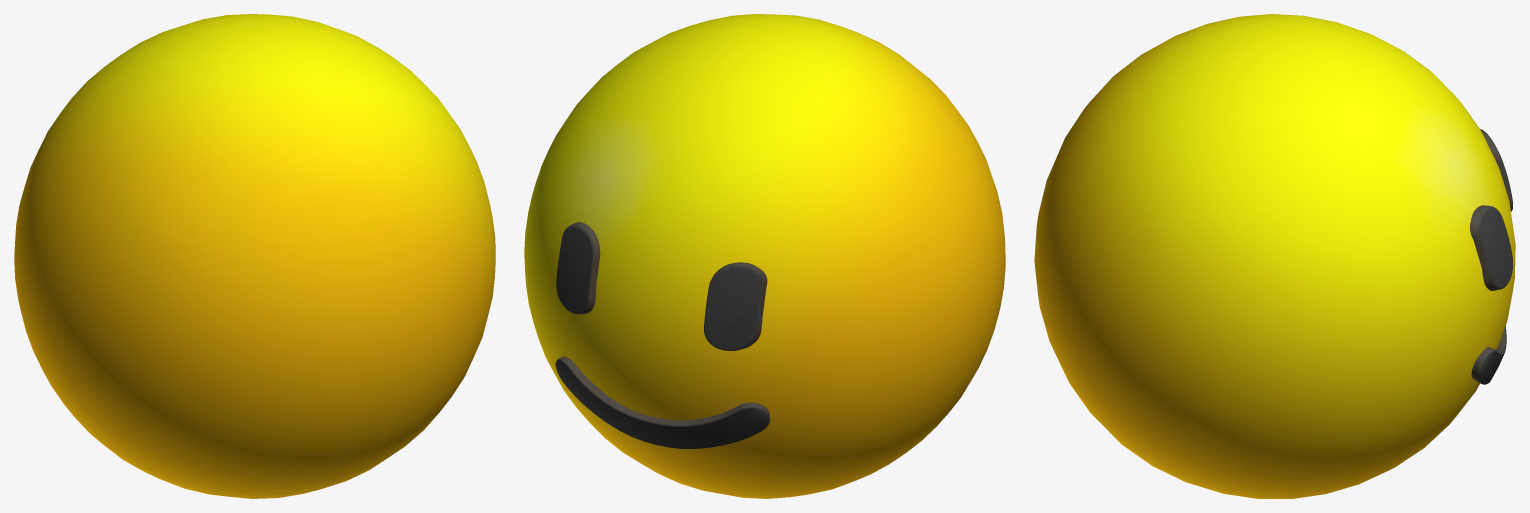
Rendered from SmilingFace.glb.
3 renders of one model, left to right at view 1: azimuth 30°, elevation 25°; view 2: azimuth 150°, elevation 25°; view 3: azimuth 270°, elevation 25°, orthographic.
Visible parts, largest first — view 1: SmilingFace; view 2: SmilingFace; view 3: SmilingFace.
Boxes of the visible parts, <box> form: SmilingFace: <box>14,14,495,498</box>; SmilingFace: <box>524,14,1005,498</box>; SmilingFace: <box>1034,14,1515,498</box>.
Bounding box in the file's own units: 1.62 × 1.64 × 1.62.
Materials: 1 (1 with a texture image).
